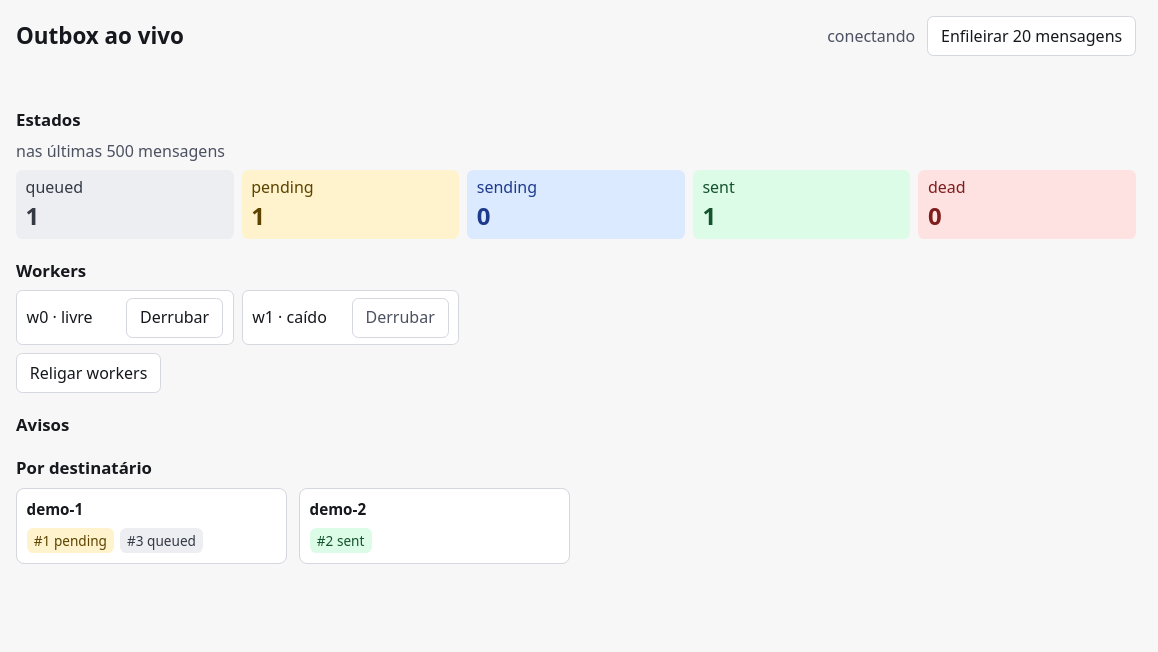
Test: App › enfileira a rajada e avisa, inclusive quando falha
Click the button "Enfileirar 20 mensagens" at (1032, 36), box [927,16,1136,56]
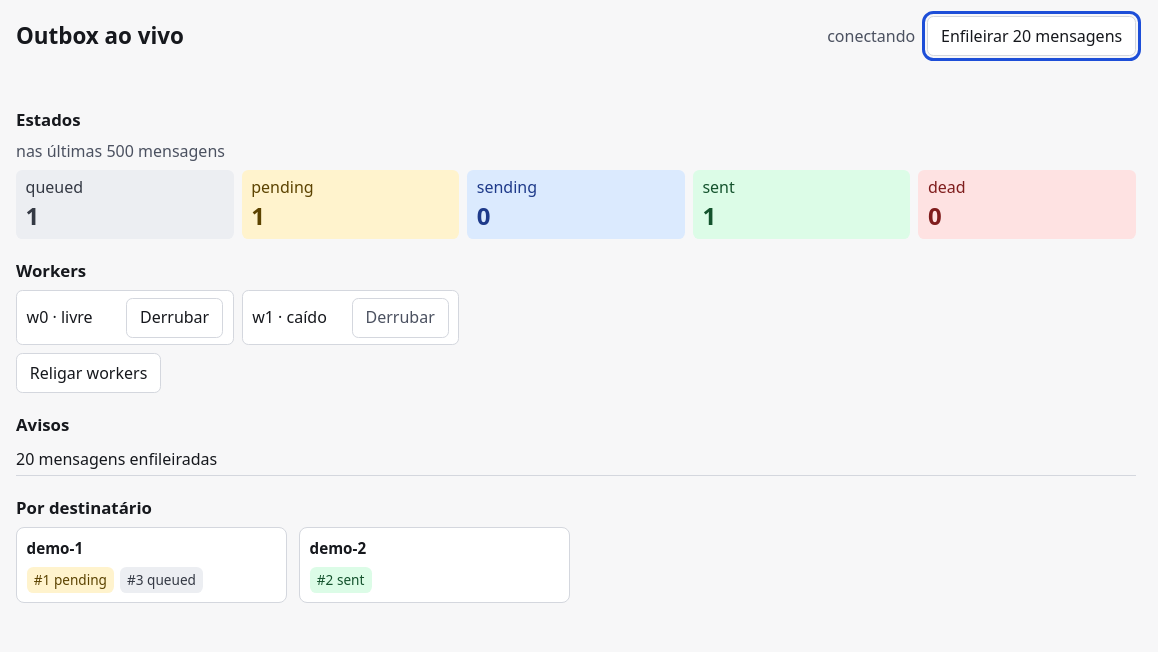
Expected: the list "20 mensagens enfileiradas" is shown, [16,444,1136,476]
Click the button "Enfileirar 20 mensagens" at (1032, 36), box [927,16,1136,56]
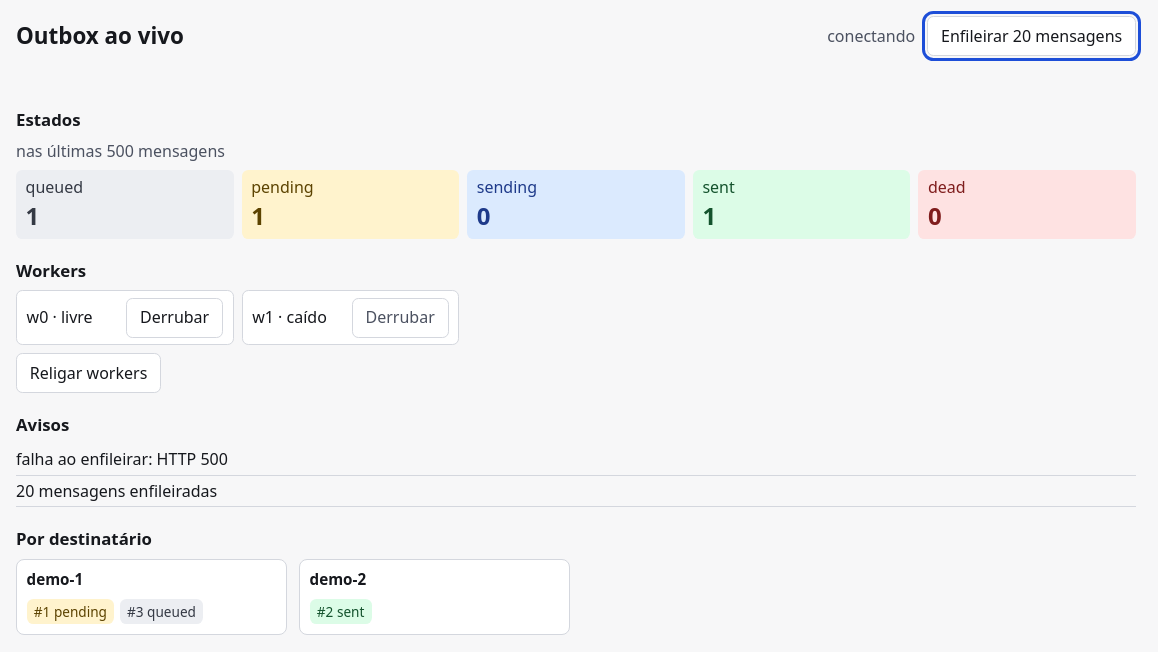
Expected: the list "falha ao enfileirar: HTTP 500 20 mensagens enfileiradas" is shown, [16,444,1136,507]
